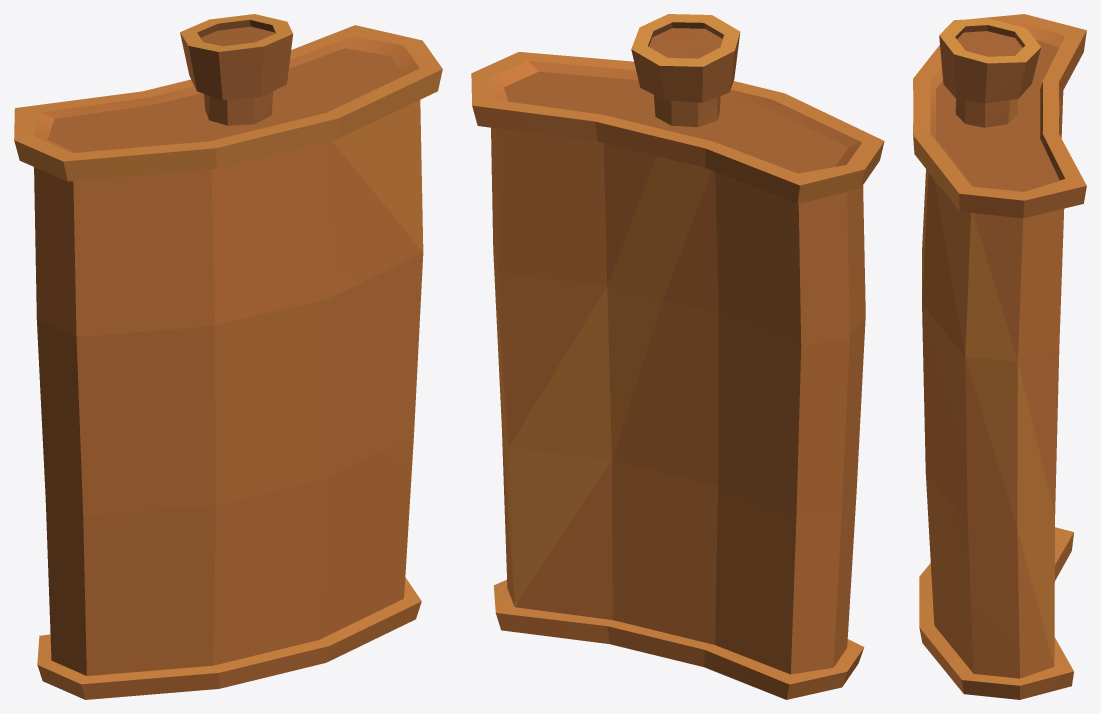
The model's file is flask.fbx.
The picture shows the model from 3 angles, left to right: view 1: azimuth 30°, elevation 25°; view 2: azimuth 150°, elevation 25°; view 3: azimuth 270°, elevation 25°; orthographic projection. The views are drawn at different scales.
Visible parts, largest first — view 1: flask; view 2: flask; view 3: flask.
Boxes of the visible parts, left/top/right/bottom form: flask: left=14, top=14, right=442, bottom=699; flask: left=471, top=14, right=884, bottom=699; flask: left=913, top=14, right=1086, bottom=699.
Bounding box in the file's own units: 11.78 × 17.16 × 4.63.
